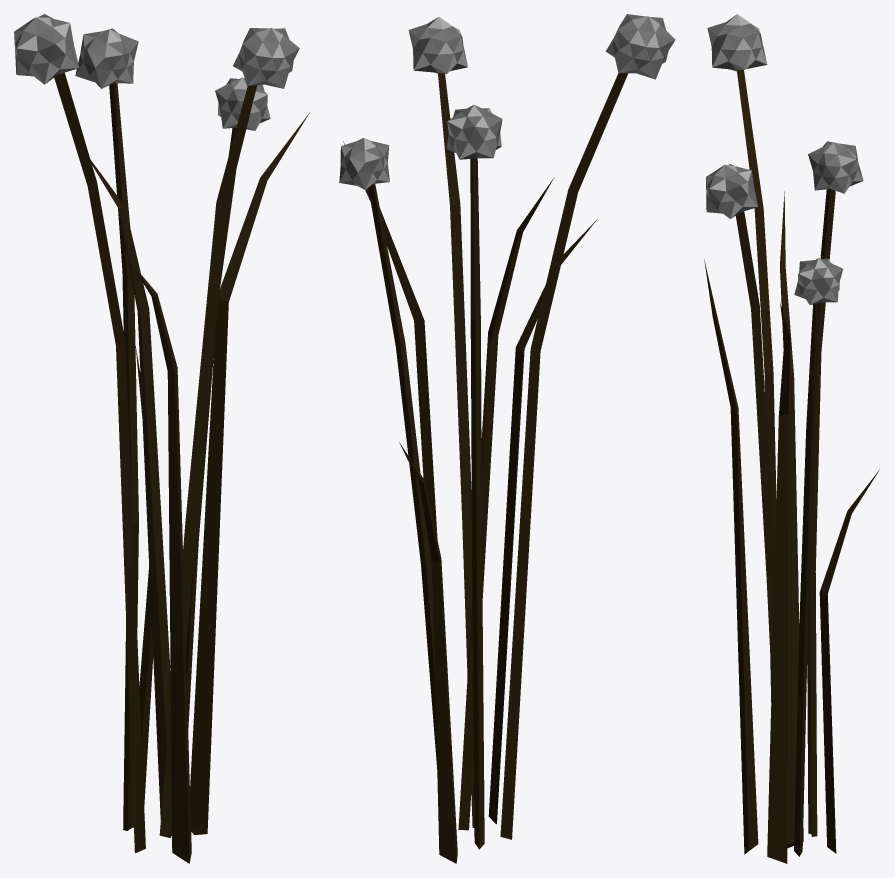
The model's file is flowers05.fbx.
3 renders of one model, left to right at view 1: azimuth 30°, elevation 25°; view 2: azimuth 150°, elevation 25°; view 3: azimuth 270°, elevation 25°, orthographic. The views are drawn at different scales.
Parts seen in each view (by area): view 1: Icosphere; view 2: Icosphere; view 3: Icosphere.
Boxes of the visible parts, box(x1,y1,x2,y2) form: Icosphere: box(14, 14, 309, 863); Icosphere: box(339, 14, 675, 863); Icosphere: box(704, 14, 879, 863).
Size of the model in its own units: 0.2201 by 0.5791 by 0.1198.
